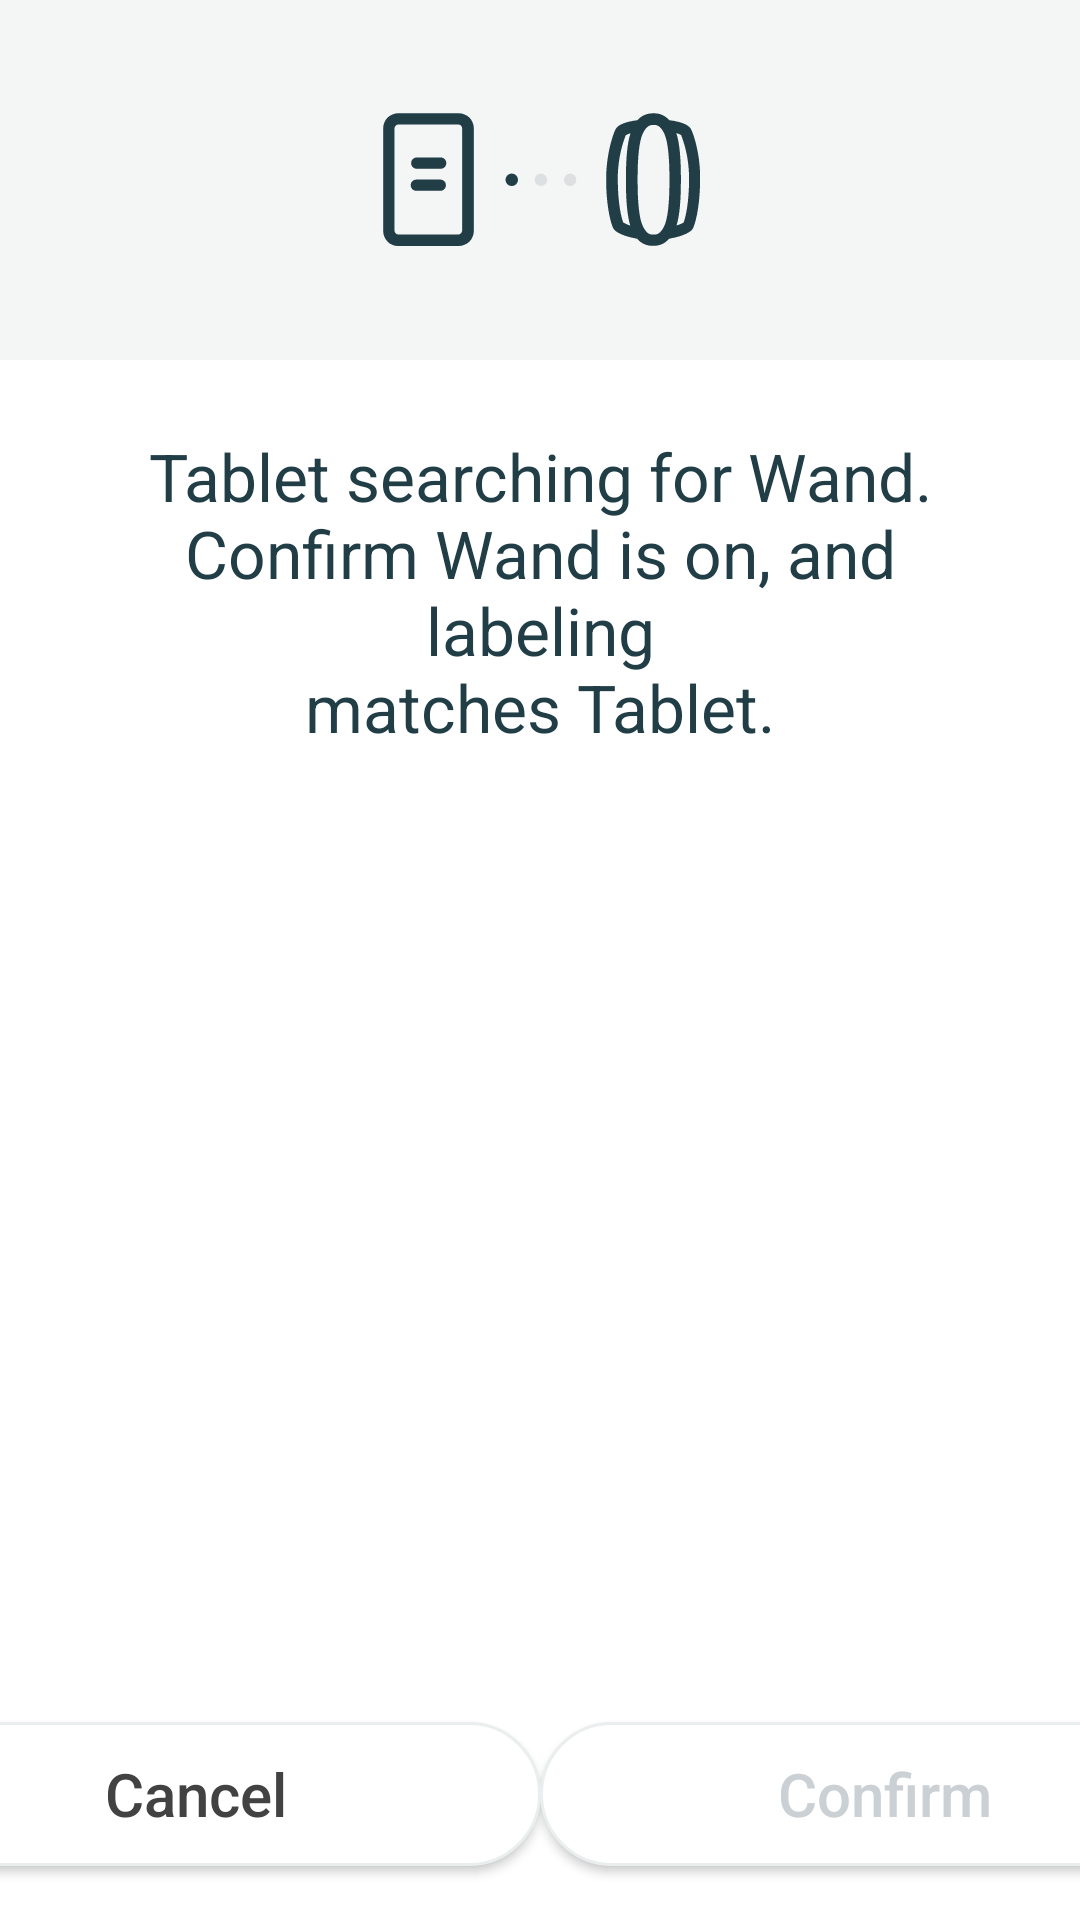

Screen size 1080*1920. Icon name, then its box in pixels as (x1, y1, x2, y2):
connection full element: (383, 113, 700, 246)
